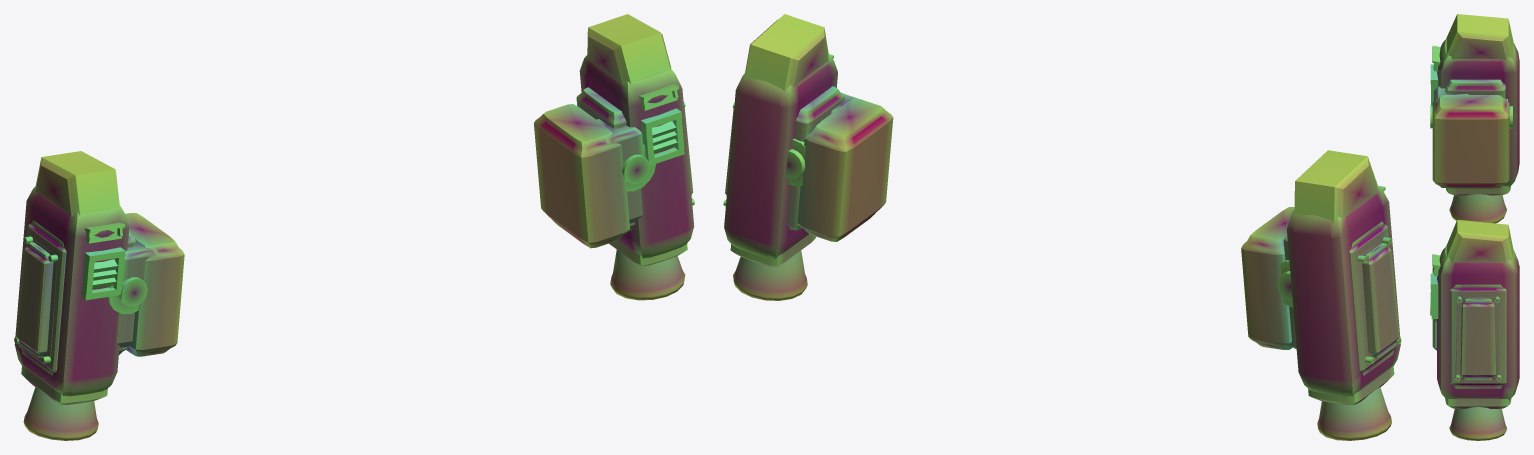
File: llm_gen_leg_thrusters_117_709ed3.glb
The picture shows the model from 3 angles, left to right: view 1: azimuth 30°, elevation 25°; view 2: azimuth 150°, elevation 25°; view 3: azimuth 270°, elevation 25°; orthographic projection. The views are drawn at different scales.
Parts seen in each view (by area): view 1: adapter_calf_clamp_r, calf_thruster_hull_1_crimson_gloss_l, calf_thruster_hull_1_crimson_gloss_r, adapter_calf_clamp_l, nacelle_upper_cowl_2_gold_r, nacelle_upper_cowl_2_gold_l, nacelle_flank_armor_6_gold_l, calf_main_bell_8_vernier_bell_vernier_l, calf_main_bell_8_vernier_bell_vernier_r, adapter_sub_flank_frame_dark_5_adapter_dark_l, adapter_sub_nacelle_intake_louver_3_dark_l, adapter_sub_nacelle_intake_louver_3_dark_r (+7 smaller); view 2: calf_thruster_hull_1_crimson_gloss_l, calf_thruster_hull_1_crimson_gloss_r, adapter_calf_clamp_r, adapter_calf_clamp_l, nacelle_upper_cowl_2_gold_r, nacelle_upper_cowl_2_gold_l, nacelle_flank_armor_6_gold_l, calf_main_bell_8_vernier_bell_vernier_l, calf_main_bell_8_vernier_bell_vernier_r, adapter_sub_flank_frame_dark_5_adapter_dark_l, adapter_sub_tank_cradle_dark_0_adapter_dark_r, adapter_sub_nozzle_shroud_dark_7_adapter_dark_l (+1 smaller); view 3: adapter_calf_clamp_l, calf_thruster_hull_1_crimson_gloss_r, nacelle_flank_armor_6_gold_r, calf_thruster_hull_1_crimson_gloss_l, nacelle_upper_cowl_2_gold_l, nacelle_upper_cowl_2_gold_r, adapter_sub_flank_frame_dark_5_adapter_dark_r, calf_main_bell_8_vernier_bell_vernier_r, calf_main_bell_8_vernier_bell_vernier_l, adapter_sub_tank_cradle_dark_0_adapter_dark_l, adapter_sub_nozzle_shroud_dark_7_adapter_dark_r, adapter_sub_nozzle_shroud_dark_7_adapter_dark_l (+7 smaller).
Boxes of the visible parts, box(x1,y1,x2,y2) form: adapter_calf_clamp_r: box(534, 104, 655, 248); calf_thruster_hull_1_crimson_gloss_l: box(14, 185, 129, 396); calf_thruster_hull_1_crimson_gloss_r: box(579, 54, 694, 258); adapter_calf_clamp_l: box(108, 213, 184, 356); nacelle_upper_cowl_2_gold_r: box(587, 14, 671, 84); nacelle_upper_cowl_2_gold_l: box(35, 151, 119, 216); nacelle_flank_armor_6_gold_l: box(14, 236, 58, 363); calf_main_bell_8_vernier_bell_vernier_l: box(23, 387, 98, 440); calf_main_bell_8_vernier_bell_vernier_r: box(610, 250, 685, 300); adapter_sub_flank_frame_dark_5_adapter_dark_l: box(18, 220, 66, 375); adapter_sub_nacelle_intake_louver_3_dark_l: box(81, 247, 125, 300); adapter_sub_nacelle_intake_louver_3_dark_r: box(641, 108, 684, 165); calf_thruster_hull_1_crimson_gloss_l: box(1287, 185, 1400, 396); calf_thruster_hull_1_crimson_gloss_r: box(724, 54, 837, 259); adapter_calf_clamp_r: box(788, 98, 893, 241); adapter_calf_clamp_l: box(1241, 207, 1294, 349); nacelle_upper_cowl_2_gold_r: box(744, 14, 828, 91); nacelle_upper_cowl_2_gold_l: box(1294, 150, 1378, 224); nacelle_flank_armor_6_gold_l: box(1357, 237, 1401, 363); calf_main_bell_8_vernier_bell_vernier_l: box(1317, 387, 1391, 440); calf_main_bell_8_vernier_bell_vernier_r: box(733, 250, 807, 300); adapter_sub_flank_frame_dark_5_adapter_dark_l: box(1349, 221, 1397, 375); adapter_sub_tank_cradle_dark_0_adapter_dark_r: box(787, 86, 844, 230); adapter_sub_nozzle_shroud_dark_7_adapter_dark_l: box(1308, 366, 1394, 404); adapter_calf_clamp_l: box(1432, 95, 1509, 188); calf_thruster_hull_1_crimson_gloss_r: box(1437, 246, 1519, 400); nacelle_flank_armor_6_gold_r: box(1455, 296, 1501, 381); calf_thruster_hull_1_crimson_gloss_l: box(1437, 39, 1519, 186); nacelle_upper_cowl_2_gold_l: box(1446, 14, 1513, 60); nacelle_upper_cowl_2_gold_r: box(1446, 220, 1513, 263); adapter_sub_flank_frame_dark_5_adapter_dark_r: box(1450, 284, 1506, 388); calf_main_bell_8_vernier_bell_vernier_r: box(1449, 407, 1506, 440); calf_main_bell_8_vernier_bell_vernier_l: box(1449, 194, 1506, 223); adapter_sub_tank_cradle_dark_0_adapter_dark_l: box(1445, 79, 1505, 98); adapter_sub_nozzle_shroud_dark_7_adapter_dark_r: box(1445, 398, 1511, 408); adapter_sub_nozzle_shroud_dark_7_adapter_dark_l: box(1446, 185, 1510, 195).
Bounding box in the file's own units: 82.51 × 31.74 × 12.73.
